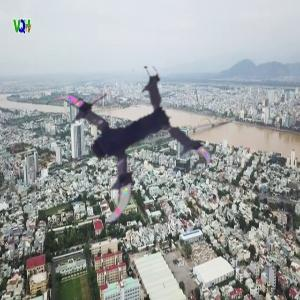drone: (41, 64, 199, 222)
